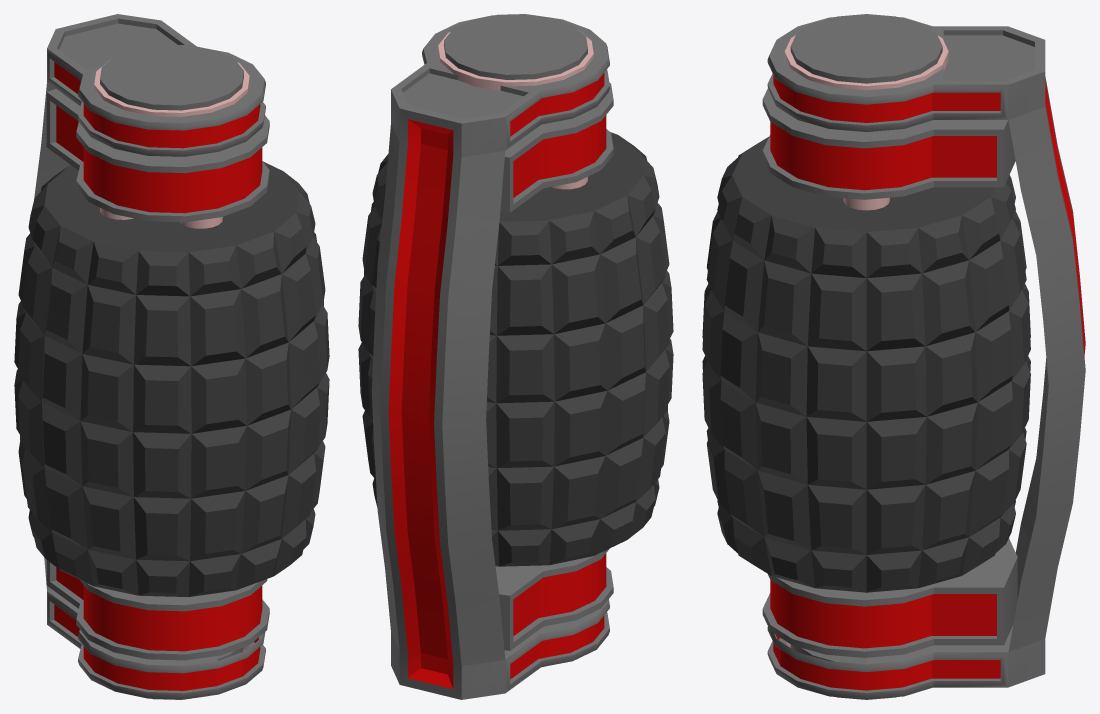
File: bomb.fbx
3 renders of one model, left to right at view 1: azimuth 30°, elevation 25°; view 2: azimuth 150°, elevation 25°; view 3: azimuth 270°, elevation 25°, orthographic. The views are drawn at different scales.
Visible parts, largest first — view 1: pCylinder13; view 2: pCylinder13; view 3: pCylinder13.
Part boxes in pixels (x1,y1,x2,y2): pCylinder13: [14, 14, 329, 699]; pCylinder13: [358, 14, 673, 699]; pCylinder13: [702, 14, 1085, 699].
Bounding box in the file's own units: 3.22 × 6.73 × 3.76.
